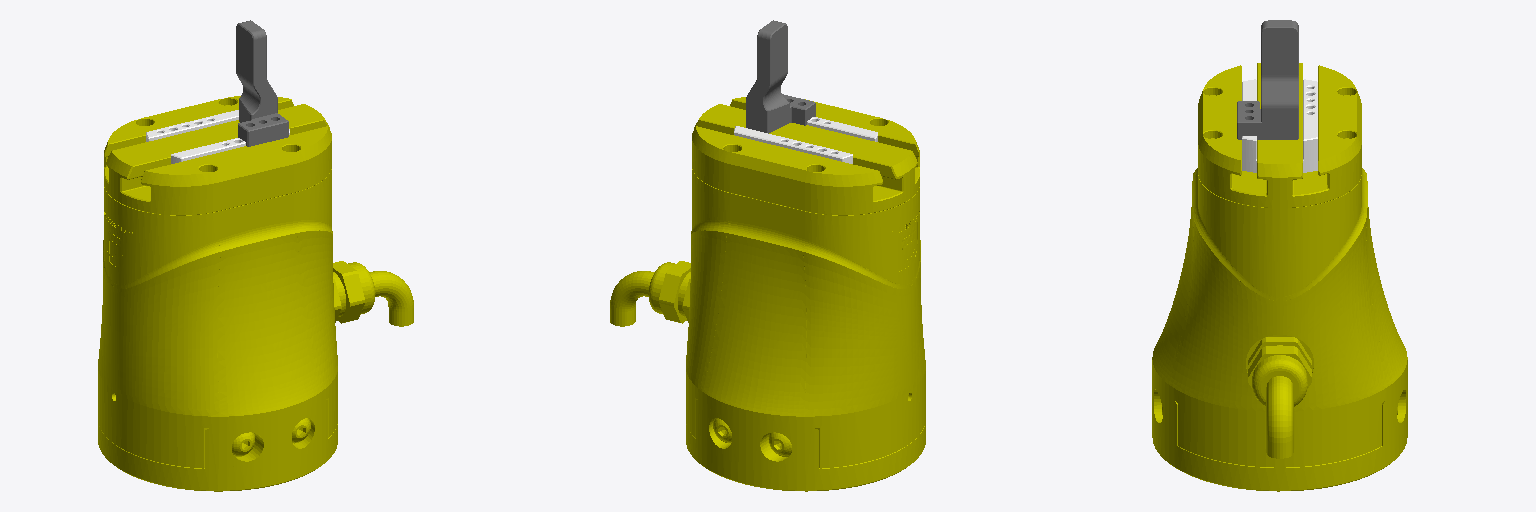
The robot description file, URDF, robot "Gripper":
<?xml version='1.0' encoding='utf-8'?>
<robot name="Gripper">
    <ros2_control name="GripperSystem" type="system">
      <hardware>
        <plugin>gz_ros2_control/GazeboSimSystem</plugin>
      </hardware>

      <joint name="Component19_Slider-8">
        <command_interface name="position"/>
        <state_interface name="position"/>
        <state_interface name="velocity"/>
      </joint>

      <joint name="Component19_Slider-9">
        <command_interface name="position"/>
        <state_interface name="position"/>
        <state_interface name="velocity"/>
      </joint>
    </ros2_control>
    <link name= "base_link"/>
    <link name="Gripper-Jaws-v1">
        <inertial>
            <origin xyz="-0.0025431546069382073 0.007523126059983256 0.011720744722316188" rpy="0.0 -0.0 0.0" />
            <mass value="0.022192771245879192" />
            <inertia ixx="2.820225279489667e-06" iyy="2.5581744598638306e-06" izz="6.215479497285636e-07" ixy="-6.355569130281804e-08" iyz="-3.252793114714653e-07" ixz="1.0661167857995517e-07" />
        </inertial>
        <visual name="Gripper-Jaws-v1_visual">
            <origin xyz="0.003000000000000014 0.003500000000000023 -0.001600000001550035" rpy="1.5707963267948997 -1.3877787807811563e-17 -1.5707963267948966" />
            <geometry>
                <mesh filename="package://gripper_control/meshes/Gripper-Jaws-v1.stl" scale="0.001 0.001 0.001"/>
            </geometry>
            <material name="grey">
                <color rgba="0.5 0.5 0.5 1"/>
            </material>
        </visual>
        <collision name="Gripper-Jaws-v1_collision">
            <origin xyz="0.003000000000000014 0.003500000000000023 -0.001600000001550035" rpy="1.5707963267948997 -1.3877787807811563e-17 -1.5707963267948966" />
            <geometry>
                <mesh filename="package://gripper_control/meshes/Gripper-Jaws-v1.stl" scale="0.001 0.001 0.001"/>
            </geometry>
        </collision>
    </link>
    <link name="Gripper-Jaws-v1-1">
        <inertial>
            <origin xyz="0.002543154606938174 -0.0065231260599832135 0.012020744722316202" rpy="0.0 -0.0 0.0" />
            <mass value="0.022192771245879192" />
            <inertia ixx="2.8202252794896363e-06" iyy="2.558174459863783e-06" izz="6.215479497285687e-07" ixy="-6.355569130281995e-08" iyz="3.252793114714633e-07" ixz="-1.0661167857994416e-07" />
        </inertial>
        <visual name="Gripper-Jaws-v1-1_visual">
            <origin xyz="-0.002999999999999967 -0.0024999999999999957 -0.0013000000015500391" rpy="1.5707963267948948 1.3877787807812953e-17 1.5707963267948966" />
            <geometry>
                <mesh filename="package://gripper_control/meshes/Gripper-Jaws-v1-1.stl" scale="0.001 0.001 0.001"/>
            </geometry>
            <material name="grey">
                <color rgba="0.5 0.5 0.5 1"/>
            </material>
        </visual>
        <collision name="Gripper-Jaws-v1-1_collision">
            <origin xyz="-0.002999999999999967 -0.0024999999999999957 -0.0013000000015500391" rpy="1.5707963267948948 1.3877787807812953e-17 1.5707963267948966" />
            <geometry>
                <mesh filename="package://gripper_control/meshes/Gripper-Jaws-v1-1.stl" scale="0.001 0.001 0.001"/>
            </geometry>
        </collision>
    </link>
    <link name="Component2">
        <inertial>
            <origin xyz="-0.0002042429980385263 -0.003746590432939555 0.002129862789814424" rpy="0.0 -0.0 0.0" />
            <mass value="0.024460828846372788" />
            <inertia ixx="3.8682532909318477e-07" iyy="3.618487620262393e-06" izz="3.7178296801236345e-06" ixy="2.233655461316277e-08" iyz="-4.275447574900833e-09" ixz="6.019408370092207e-10" />
        </inertial>
        <visual name="Component2_visual">
            <origin xyz="-0.014990000000000028 -0.012250000001550012 -0.006749999999999974" rpy="-1.5707963267948966 -0.0 0.0" />
            <geometry>
                <mesh filename="package://gripper_control/meshes/Component2.stl" scale="0.001 0.001 0.001"/>
            </geometry>
            <material name="white">
                <color rgba="1.0 1.0 1.0 1"/>
            </material>
        </visual>
        <collision name="Component2_collision">
            <origin xyz="-0.014990000000000028 -0.012250000001550012 -0.006749999999999974" rpy="-1.5707963267948966 -0.0 0.0" />
            <geometry>
                <mesh filename="package://gripper_control/meshes/Component2.stl" scale="0.001 0.001 0.001"/>
            </geometry>
        </collision>
    </link>
    <link name="Component3">
        <inertial>
            <origin xyz="0.00020424299803851518 0.003746590432939597 0.002129862789814432" rpy="0.0 -0.0 0.0" />
            <mass value="0.02446082884637278" />
            <inertia ixx="3.868253290931852e-07" iyy="3.618487620262395e-06" izz="3.7178296801236375e-06" ixy="2.233655461316195e-08" iyz="4.2754475749001976e-09" ixz="-6.019408370102133e-10" />
        </inertial>
        <visual name="Component3_visual">
            <origin xyz="0.014989999999999976 0.01225000000155007 -0.00675000000000002" rpy="1.5707963267948966 -0.0 0.0" />
            <geometry>
                <mesh filename="package://gripper_control/meshes/Component3.stl" scale="0.001 0.001 0.001"/>
            </geometry>
            <material name="white">
                <color rgba="1.0 1.0 1.0 1"/>
            </material>
        </visual>
        <collision name="Component3_collision">
            <origin xyz="0.014989999999999976 0.01225000000155007 -0.00675000000000002" rpy="1.5707963267948966 -0.0 0.0" />
            <geometry>
                <mesh filename="package://gripper_control/meshes/Component3.stl" scale="0.001 0.001 0.001"/>
            </geometry>
        </collision>
    </link>
    <link name="Component19">
        <inertial>
            <origin xyz="0.0006136407896993089 8.137229863817442e-09 -0.04362888310917896" rpy="0.0 0.0 0.0" />
            <mass value="2.9132748167487055" />
            <inertia ixx="0.003156238502765635" iyy="0.0035461291900727642" izz="0.0018757717337307004" ixy="1.2756593703873e-09" iyz="-1.1946946600036706e-09" ixz="1.6010605934863446e-05" />
        </inertial>
        <visual name="Component19_visual">
            <origin xyz="0.0 0.0 0.0" rpy="0.0 0.0 0.0" />
            <geometry>
                <mesh filename="package://gripper_control/meshes/Component19.stl" scale="0.001 0.001 0.001"/>
            </geometry>
            <material name="gold">
                <color rgba="0.8 0.8 0.0 1"/>
            </material>
        </visual>
        <collision name="Component19_collision">
            <origin xyz="0.0 0.0 0.0" rpy="0.0 0.0 0.0" />
            <geometry>
                <mesh filename="package://gripper_control/meshes/Component19.stl" scale="0.001 0.001 0.001"/>
            </geometry>
        </collision>
    </link>
    <joint name="base_to_component19" type="fixed"> 
        <origin xyz="0 0 0" rpy="0 0 0"/> 
        <parent link="base_link"/>
        <child link="Component19" /> 
    </joint>
    <joint name="Component3_Rigid-5" type="fixed">
        <origin xyz="-0.01551 -0.0029500000000000017 0.0012249999999999995" rpy="1.5707963267948966 -0.0 0.0" />
        <parent link="Component3" />
        <child link="Gripper-Jaws-v1-1" />
    </joint>
    <joint name="Component2_Rigid-6" type="fixed">
        <origin xyz="0.01551 0.003250000000000002 0.00225" rpy="-1.5707963267948966 -0.0 0.0" />
        <parent link="Component2" />
        <child link="Gripper-Jaws-v1" />
    </joint>
    <joint name="Component19_Slider-8" type="prismatic">
        <origin xyz="0.0 -0.006750000000000001 0.011399999999999999" rpy="1.5707963267948966 -0.0 0.0" />
        <parent link="Component19" />
        <child link="Component2" />
        <axis xyz="1.0 0.0 0.0" />
        <limit lower="-0.015" upper="0.015" effort="50" velocity="0.1" />
    </joint>
    <joint name="Component19_Slider-9" type="prismatic">
        <origin xyz="0.0 0.006750000000000001 0.011399999999999999" rpy="-1.5707963267948966 -0.0 0.0" />
        <parent link="Component19" />
        <child link="Component3" />
        <axis xyz="1.0 0.0 0.0" />
        <limit lower="-0.015" upper="0.015" effort="50" velocity="0.1" />
    </joint>
    <gazebo>
        <plugin
            filename="libgz_ros2_control-system.so"
            name="gz_ros2_control::GazeboSimROS2ControlPlugin">
            <parameters>[local-path]/ros_ws/install/gripper_control/share/gripper_control/config/controllers.yaml</parameters> #Path for the yaml file containing the controller configuration. Make sure to update this path according to your setup.
        </plugin>
    </gazebo>
    <gazebo reference="base_link">
        <static>false</static>
    </gazebo>
    
</robot>

--- What the picture shows (computed from the rendered views, not written in the file) ---
The picture shows the robot from 3 angles, left to right: view 1: azimuth 30°, elevation 25°; view 2: azimuth 150°, elevation 25°; view 3: azimuth 270°, elevation 25°; orthographic projection.
Robot: Gripper — 6 links, 5 joints (2 prismatic, 3 fixed); root link base_link; default pose: every joint at zero.
Visible links, largest first — view 1: Component19, Gripper-Jaws-v1, Component3, Component2; view 2: Component19, Gripper-Jaws-v1, Component3, Component2; view 3: Component19, Gripper-Jaws-v1, Component3, Component2.
Link boxes in pixels (x1,y1,x2,y2): Component19: [98, 96, 413, 491]; Gripper-Jaws-v1: [236, 20, 288, 146]; Component3: [146, 110, 238, 141]; Component2: [171, 129, 289, 163]; Component19: [610, 97, 925, 491]; Gripper-Jaws-v1: [746, 20, 815, 133]; Component3: [734, 126, 852, 163]; Component2: [807, 117, 877, 141]; Component19: [1152, 63, 1407, 491]; Gripper-Jaws-v1: [1237, 20, 1298, 139]; Component3: [1303, 79, 1317, 172]; Component2: [1242, 79, 1256, 172].
Size in the robot's own frame: 0.1075 by 0.075 by 0.14 metres.
4 mesh visuals loaded from 5 distinct referenced files (4 binary STL); not drawn: 1 (reference not matched to a file when rendering).
